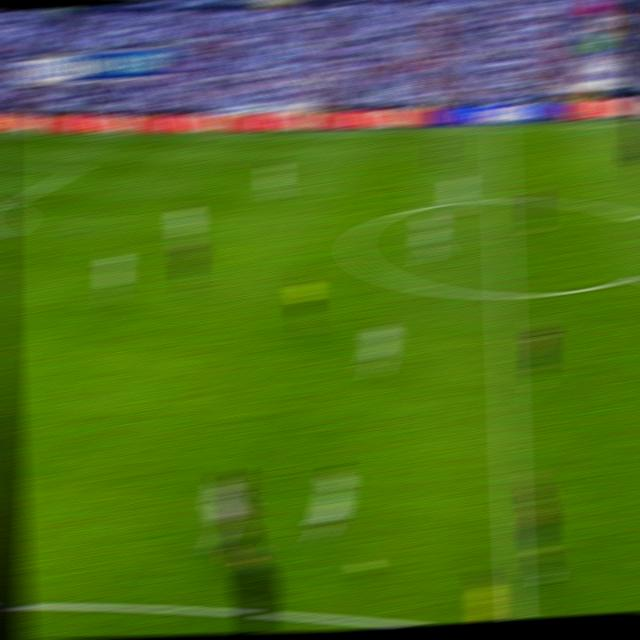bigarea_bottom_outter: (0, 197, 15, 212)
halfcircle_bottom: (492, 281, 516, 306)
halfcircle_top: (489, 187, 514, 210)
midline_top_intersection: (490, 123, 508, 136)
